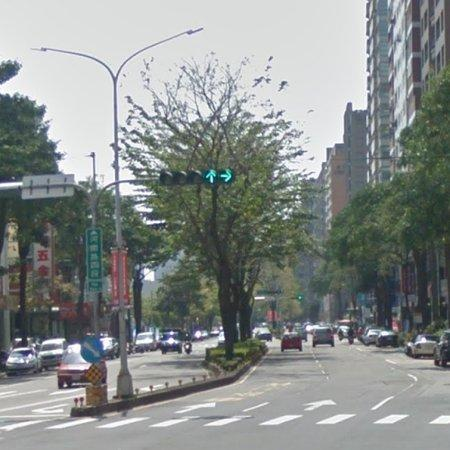traffic lights: (158, 170, 235, 185)
